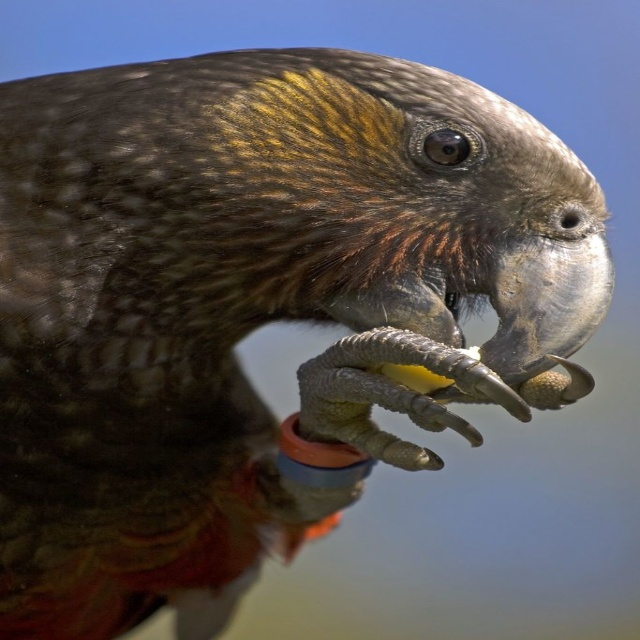Parrot: (0, 35, 606, 640)
